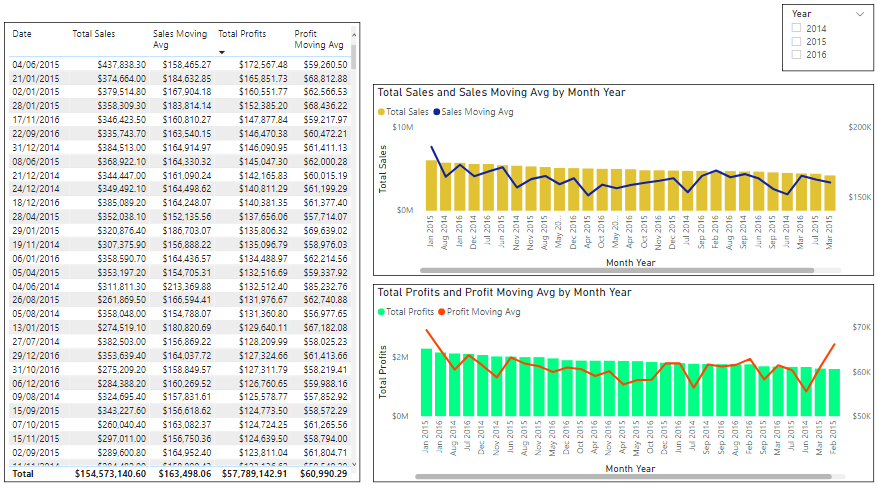

What the dashboard file says about the page in this screenshot:
{"tool":"powerbi","page":{"name":"Moving Average","canvas":[1280,720],"ordinal":3},"visuals":[{"type":"tableEx","fields":{"Values":["DateDim.Date","Imp Measures.Total Sales","Time Intelligence Measures.Profit Moving Avg","Imp Measures.Total Profits","Time Intelligence Measures.Moving Avg"]},"box":[10.1,39,513.7,663.7],"z":0},{"type":"lineClusteredColumnComboChart","fields":{"Category":["DateDim.Month Year"],"Y":["Imp Measures.Total Profits"],"Y2":["Time Intelligence Measures.Profit Moving Avg"]},"box":[542.5,417,722.9,285.7],"z":1000},{"type":"slicer","fields":{"Values":["DateDim.Year"]},"box":[1132.7,13,132.7,96.7],"z":2000},{"type":"lineClusteredColumnComboChart","fields":{"Category":["DateDim.Month Year"],"Y":["Imp Measures.Total Sales"],"Y2":["Time Intelligence Measures.Sales Moving Avg"]},"box":[542.5,128.4,722.9,277],"z":3000}]}

Visuals, with their boxes in screenshot pixels (x1, y1, x2, y2), scaled from the page's 1280x720 canvas onto the 878x488 screenshot:
tableEx - DateDim.Date x Imp Measures.Total Sales: 7,26,359,476
lineClusteredColumnComboChart - DateDim.Month Year x Imp Measures.Total Profits: 372,283,868,476
slicer - DateDim.Year: 777,9,868,74
lineClusteredColumnComboChart - DateDim.Month Year x Imp Measures.Total Sales: 372,87,868,275
